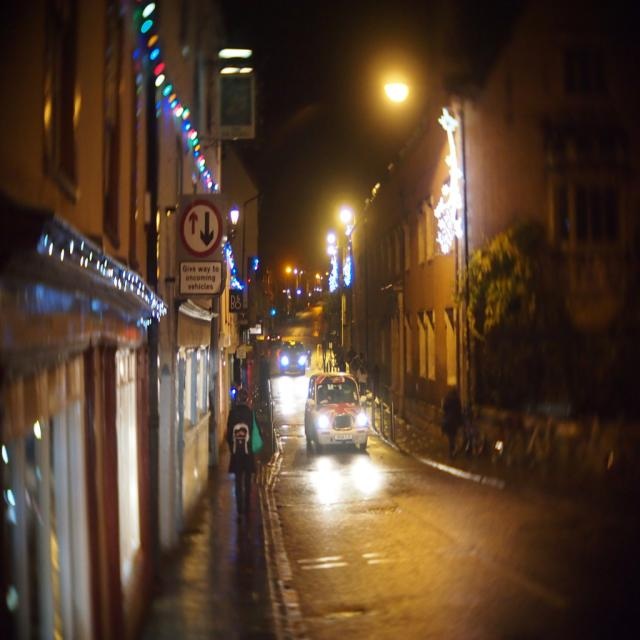car: (300, 374, 374, 459), (276, 338, 307, 372)
